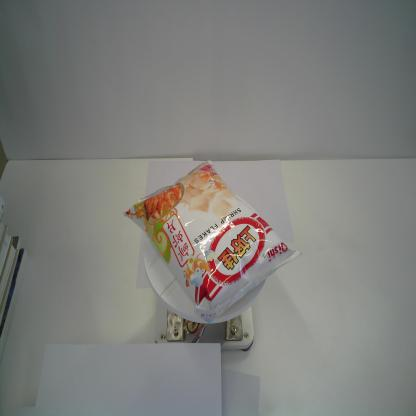Puffed Food: (120, 159, 302, 325)
